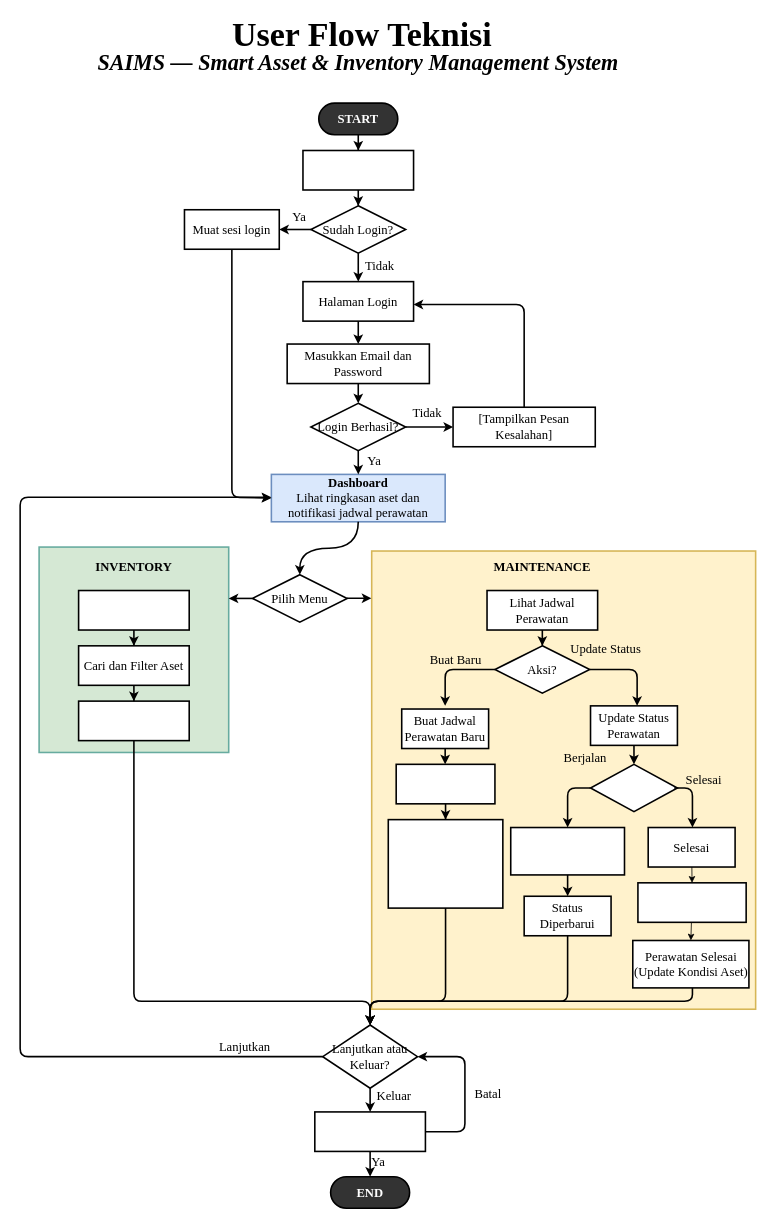
Some shapes in this 769 by 1222 pixel diagram are drawn without their labels. The centre of each missing label's shape, as x and y in pixels:
[Hanya Dapat Melihat]: (133,720)
[Konfirmasi Keluar]: (370,1131)
Buka Aplikasi SAIMS: (358,169)
Isi Catatan, Biaya & Kondisi Aset Akhir: (692,902)
Jadwal Tersimpan (Aset otomatis status: Maintenance): (445,863)
Lihat Daftar Aset: (133,609)
Pilih Aset dan Tanggal Perawatan: (445,783)
Sedang Berjalan (Aset otomatis status: Maintenance): (567,850)
Status Baru?: (633,787)
